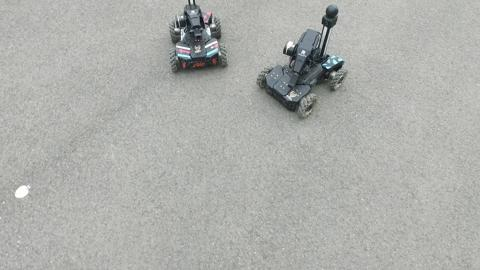chariot: (253, 3, 360, 116), (156, 1, 232, 73)
